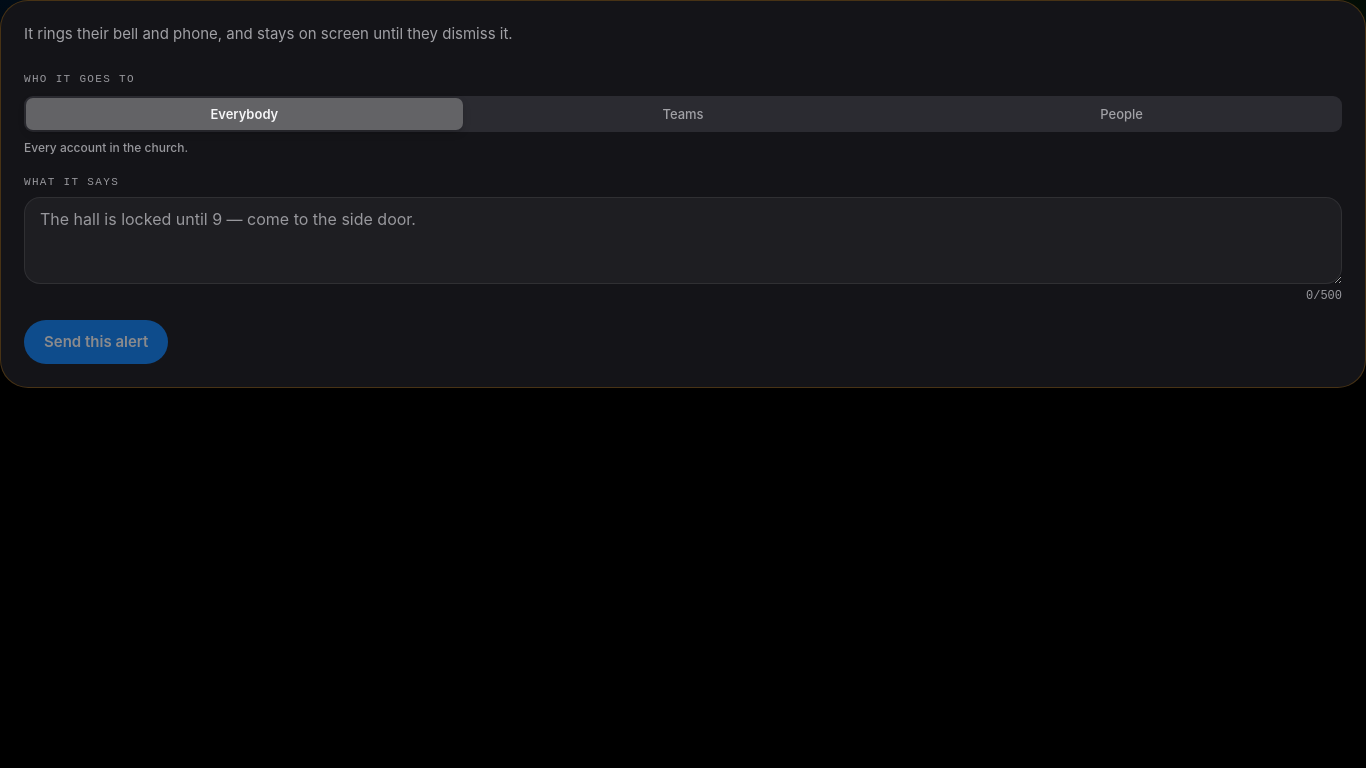
SendAlertCard › says how many it reached
The image size is (1366, 768).
Type "Sunday is cancelled" into the text box labelled "What it says" at (683, 240), box 24,197 -> 1342,284
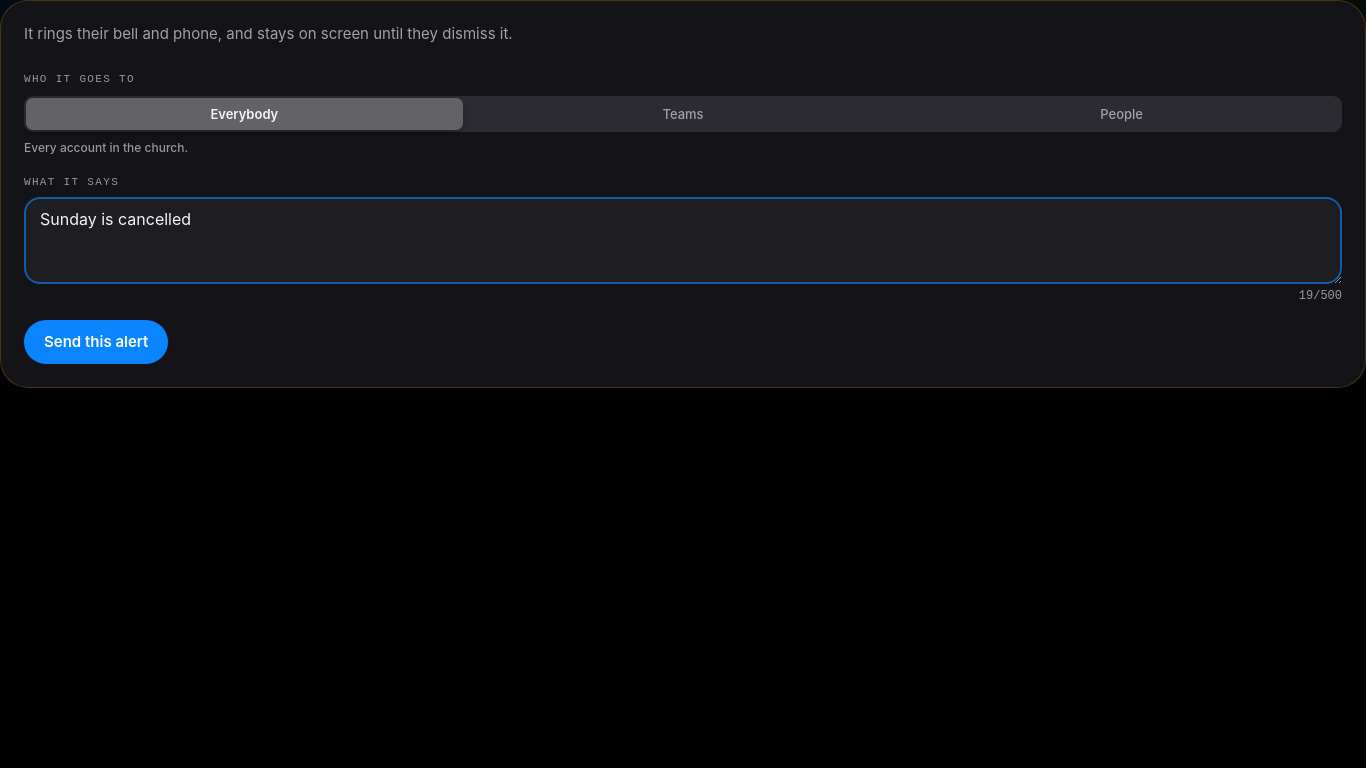
Click the button "Send this alert" at (96, 342), box 24,320 -> 168,364
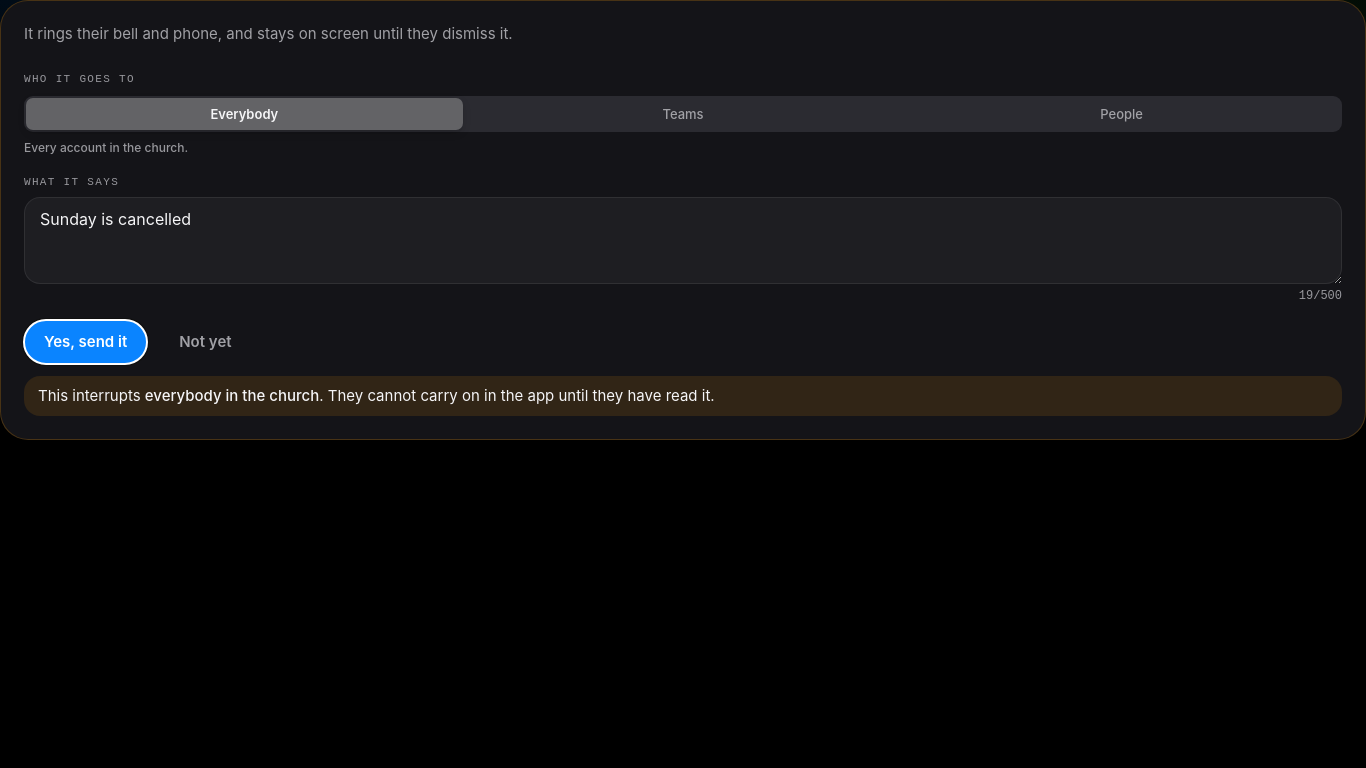
Click the button "Yes, send it" at (86, 342), box 24,320 -> 147,364
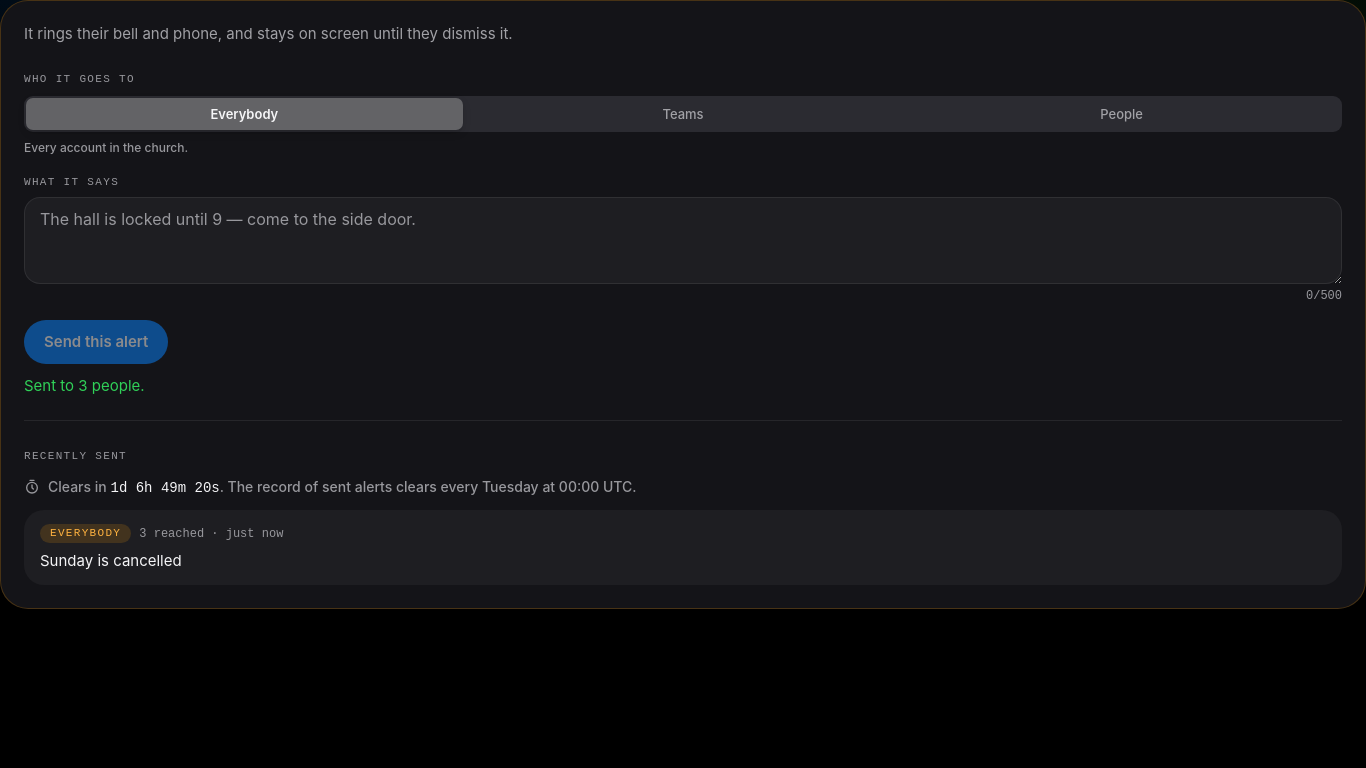
expect the text "Sent to 3 people." is shown: met, box 24,376 -> 145,395
